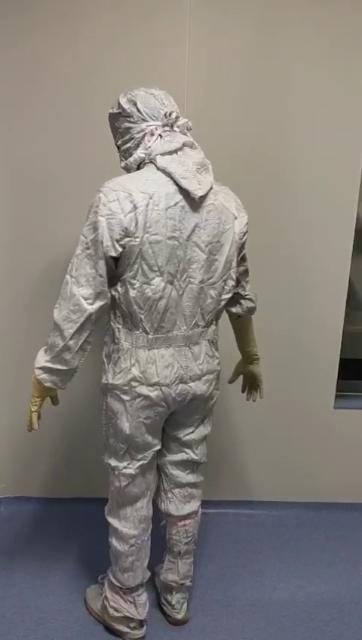boot_not_secured: (70, 558, 170, 640)
boot_secured: (160, 498, 212, 624)
gloves_fitted_securely: (222, 287, 272, 409)
gloves_not_fitted_securely: (18, 360, 85, 440)
headgear_not_secured_backside: (98, 70, 232, 206)
